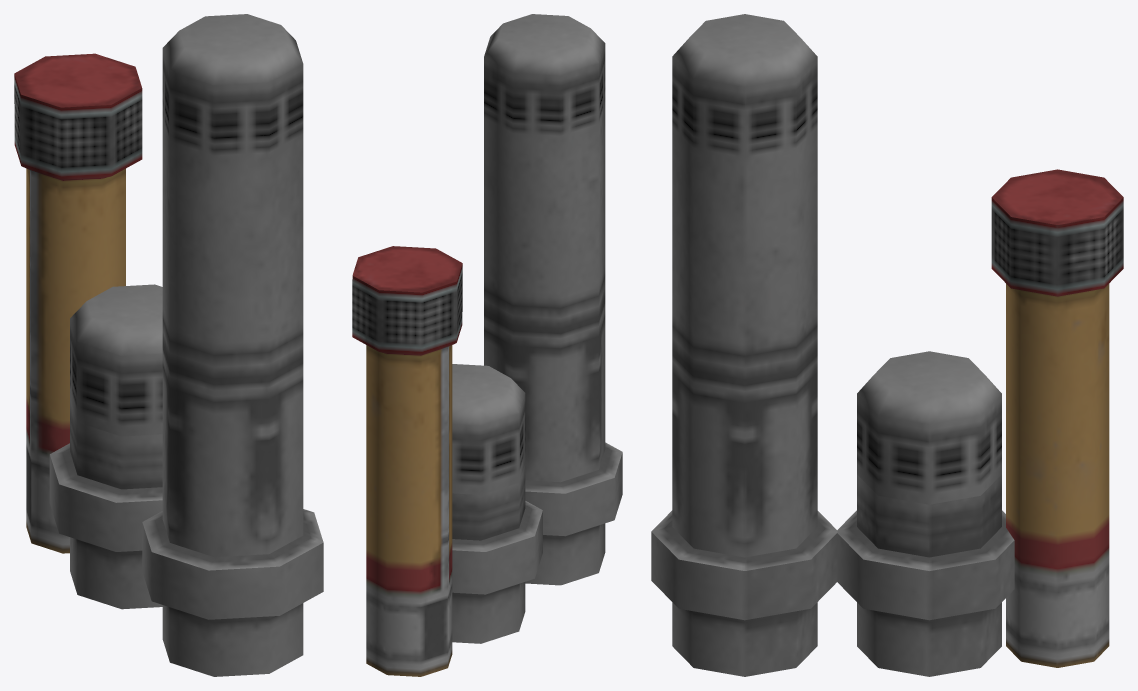
Rendered from CP_Pipe_F_End.fbx.
3 renders of one model, left to right at view 1: azimuth 30°, elevation 25°; view 2: azimuth 150°, elevation 25°; view 3: azimuth 270°, elevation 25°, orthographic. The views are drawn at different scales.
Parts seen in each view (by area): view 1: CP_Pipe_F_End_LOD0; view 2: CP_Pipe_F_End_LOD0; view 3: CP_Pipe_F_End_LOD0.
Part boxes in pixels (bbox=[...]): CP_Pipe_F_End_LOD0: bbox=[14, 14, 323, 676]; CP_Pipe_F_End_LOD0: bbox=[352, 14, 622, 676]; CP_Pipe_F_End_LOD0: bbox=[651, 14, 1123, 676].
Size of what is drawn, in the model's own units: 20.35 by 73.04 by 51.35.
